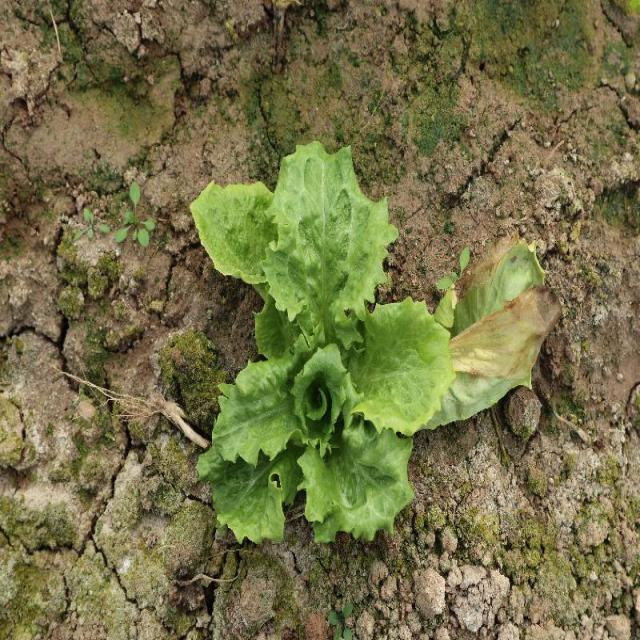crop: (186, 139, 453, 547)
